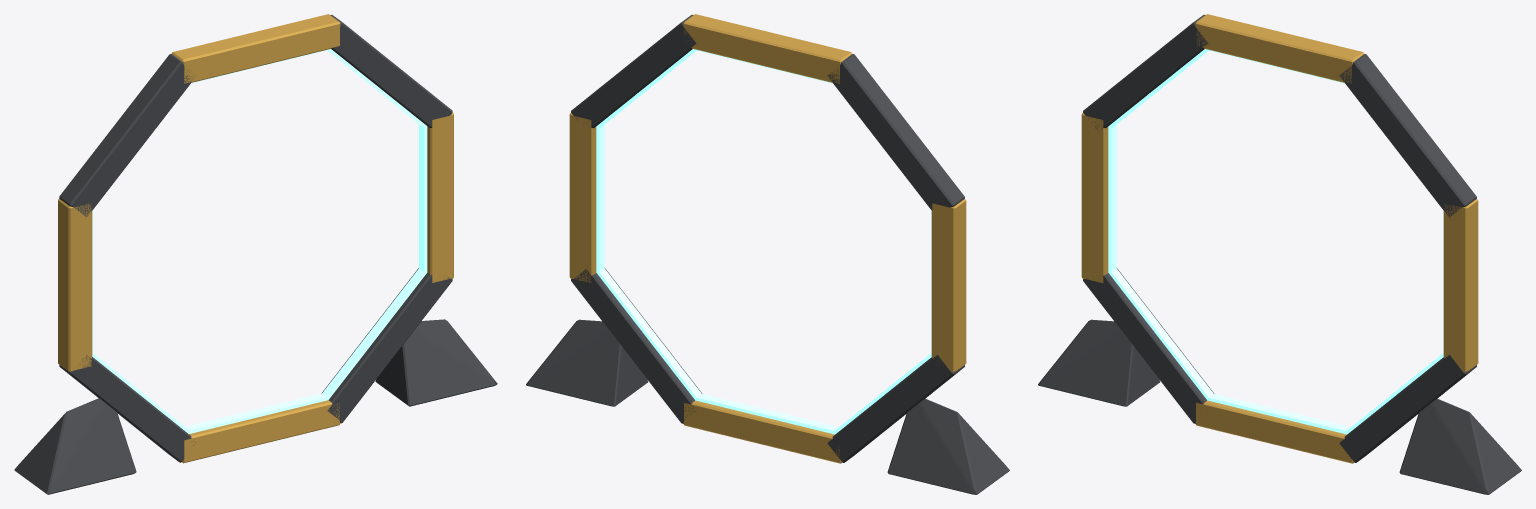
File: heatsinkCheckpointRing.67ee1db8.glb
3 views of the same model, side by side, from view 1: azimuth 30°, elevation 25°; view 2: azimuth 150°, elevation 25°; view 3: azimuth 330°, elevation 25° (orthographic).
Visible parts, largest first — view 1: checkpoint_ring; view 2: checkpoint_ring; view 3: checkpoint_ring.
Part boxes in pixels (x1,y1,x2,y2): checkpoint_ring: (14, 14, 497, 494); checkpoint_ring: (526, 14, 1009, 494); checkpoint_ring: (1038, 14, 1521, 494).
Bounding box in the file's own units: 29.92 × 25.6 × 3.94.
